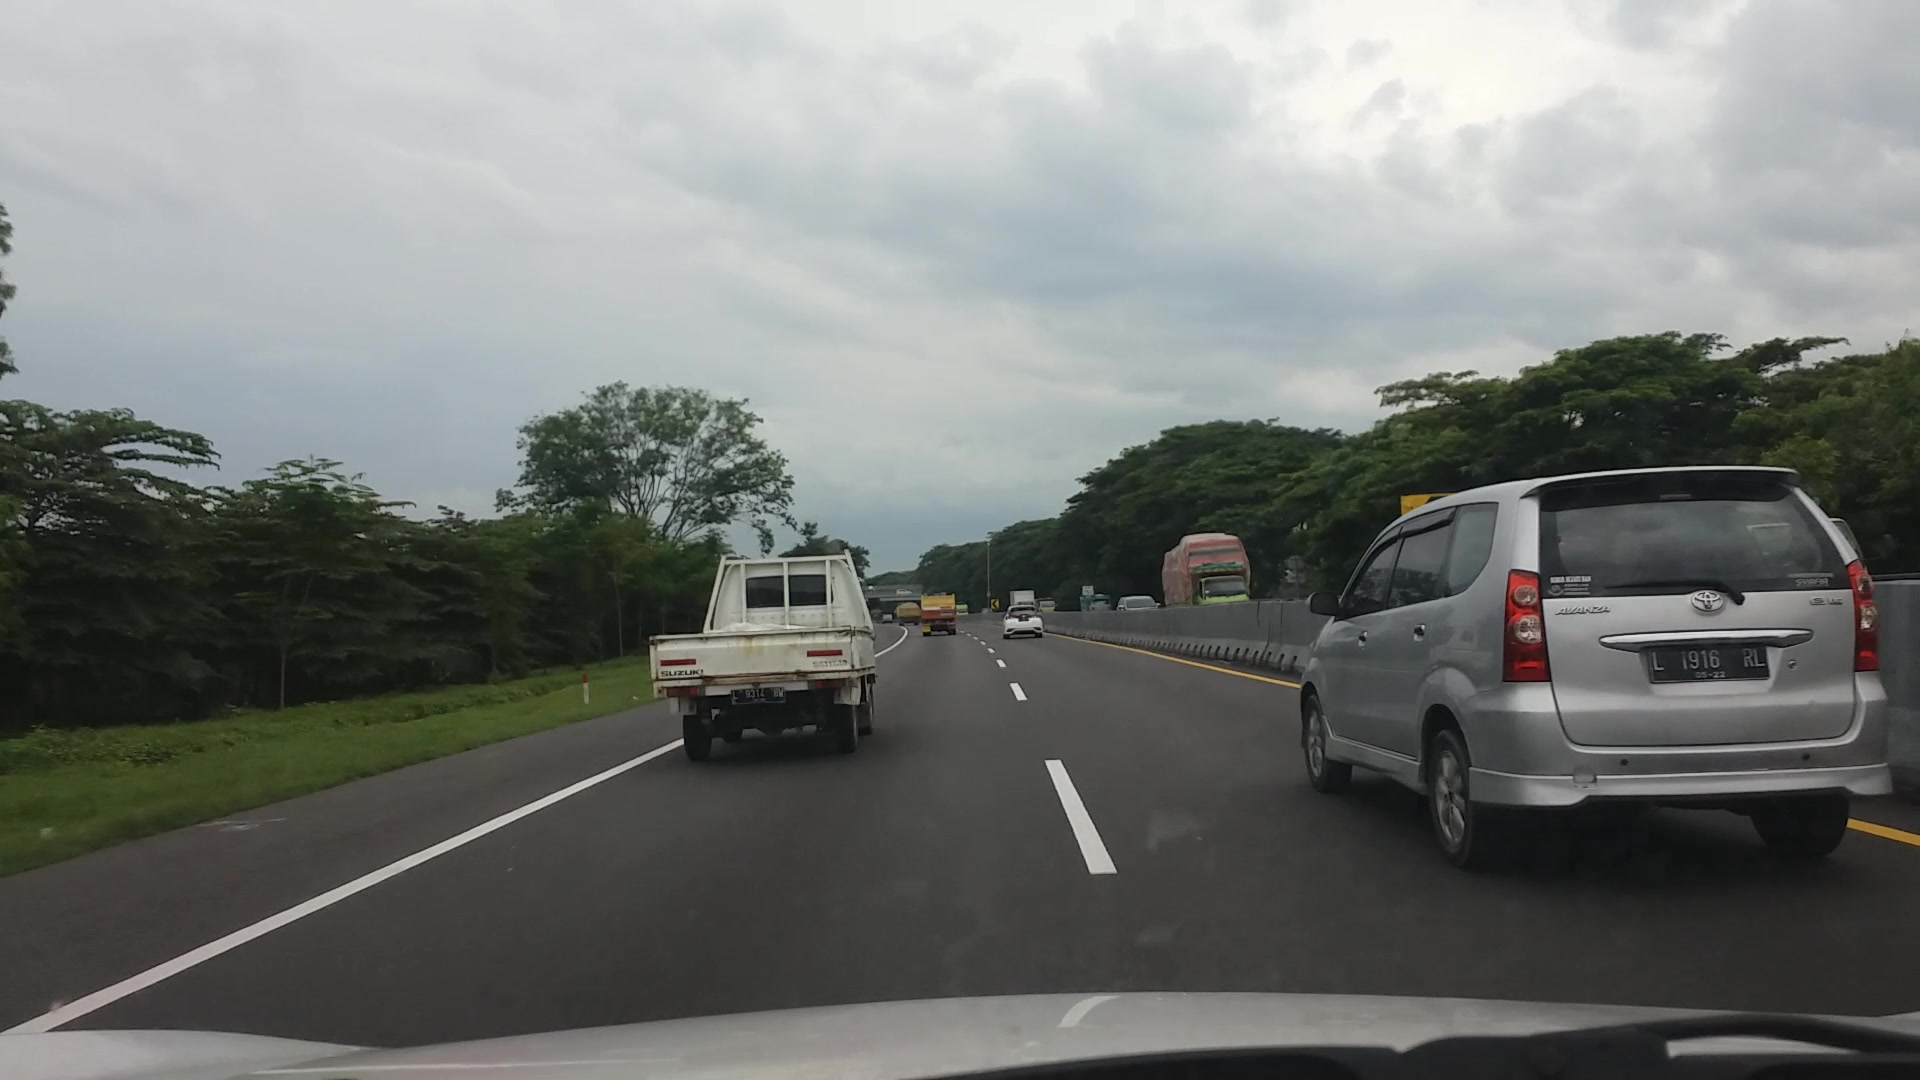plate_positive: (1648, 644, 1768, 680), (731, 687, 786, 704)
